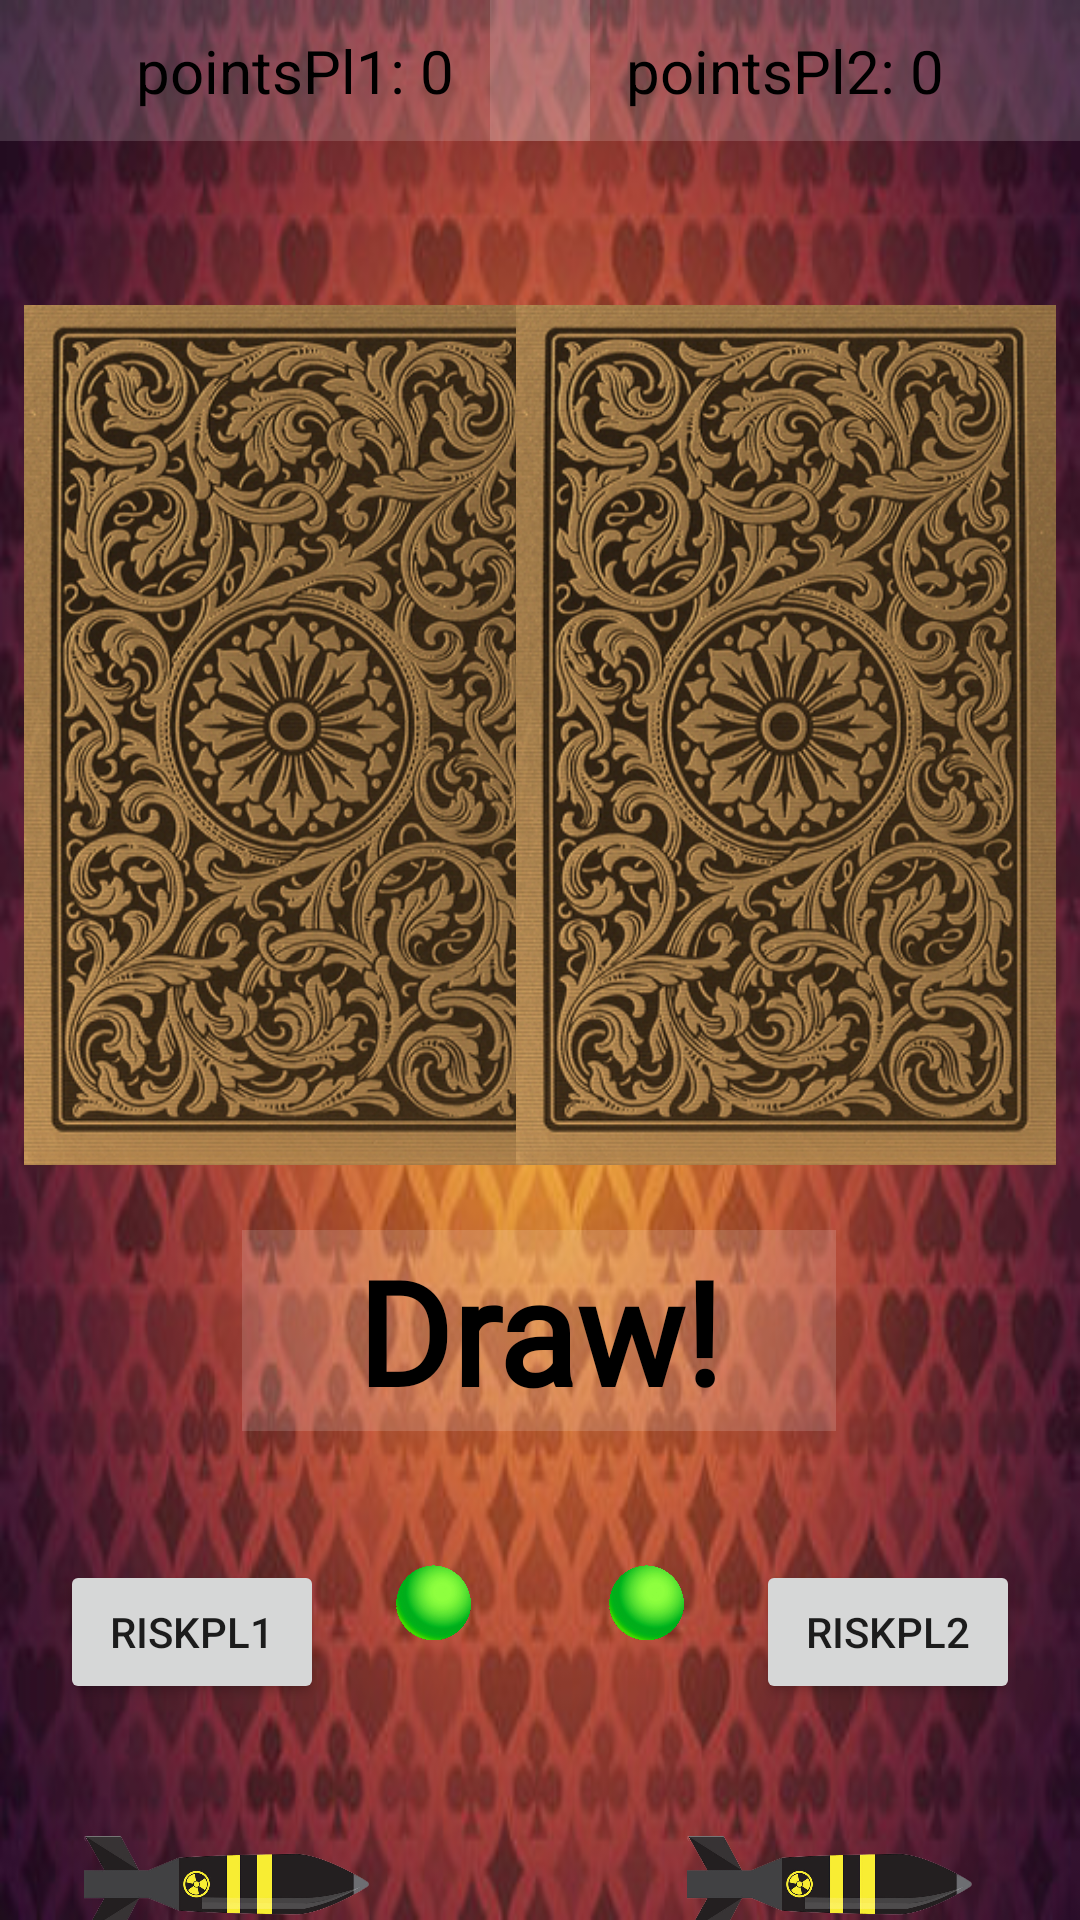

Named icons in this screenshot (1080px x 1920px) and their bounding boxes, detection(x1, y1, x2, y2):
boll: detection(396, 1565, 471, 1640), detection(609, 1565, 684, 1640)
